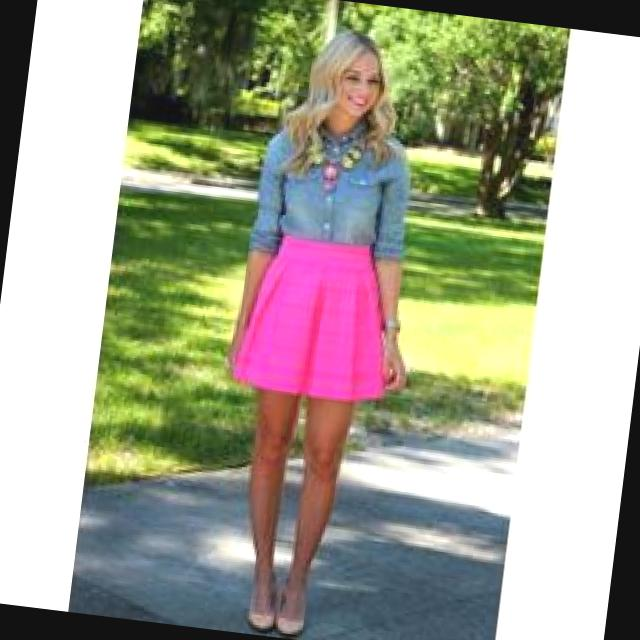shirt: (249, 108, 418, 268)
skirt: (226, 230, 406, 407)
